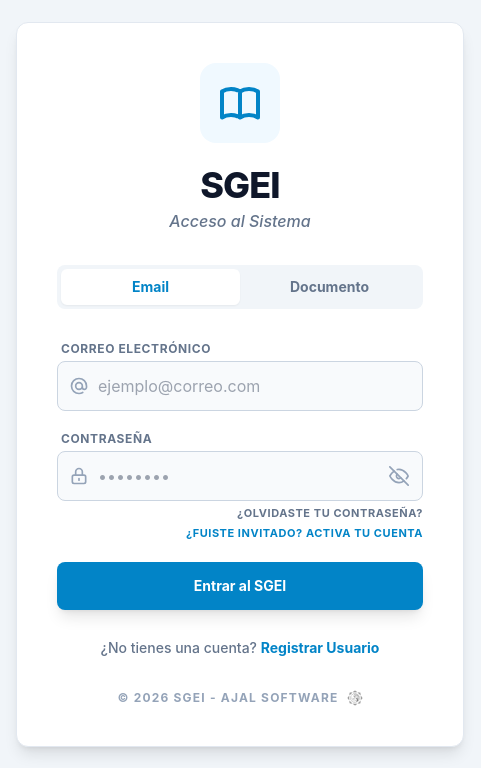
Login Component › debe mostrar error si el login falla
The width and height of the screenshot is (481, 768).
Type "wrong@example.com" into the field with placeholder "ejemplo@correo.com".
click(240, 386); type("wrong@example.com")  # box [57,360,423,410]
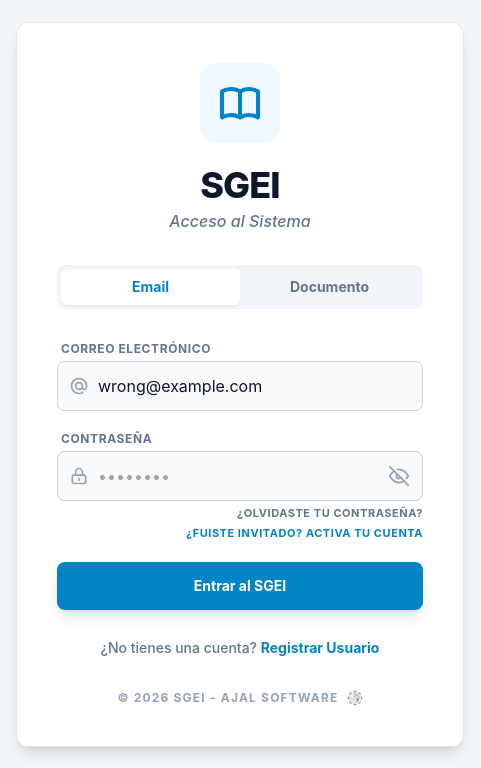
Type "wrongpass" into the password field with placeholder "••••••••".
click(240, 476); type("wrongpass")  # box [57,450,423,500]
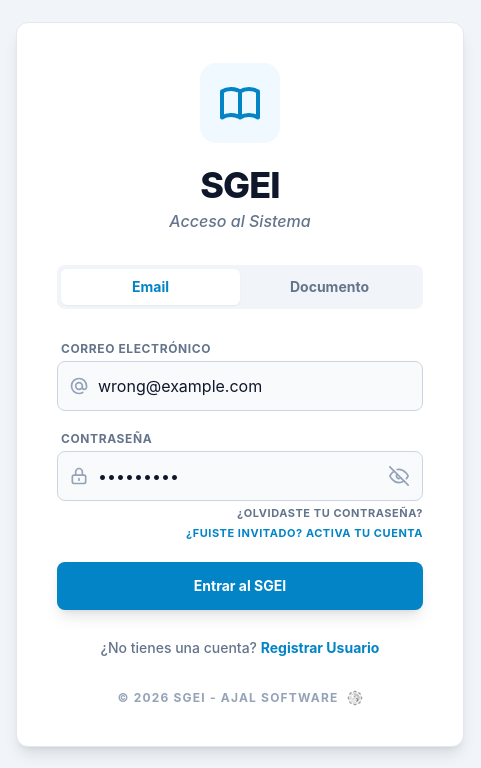
Click the button "Entrar al SGEI".
click(240, 586)  # box [57,562,423,610]
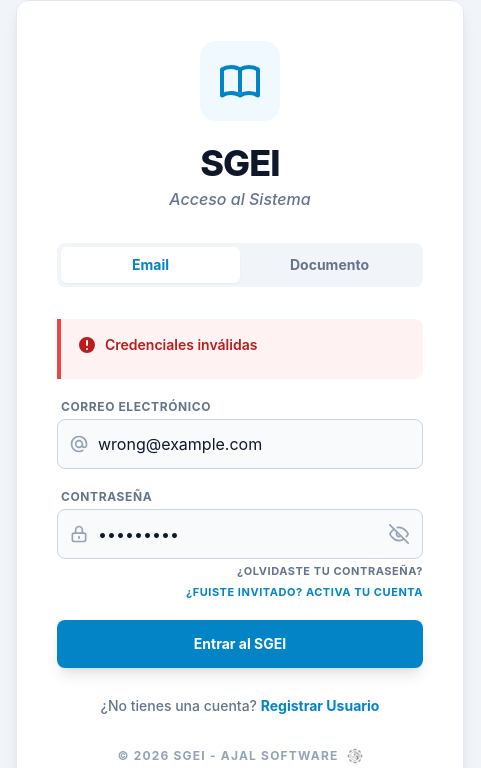
Expected: the text "Credenciales inválidas" is shown, [105,335,257,355]
